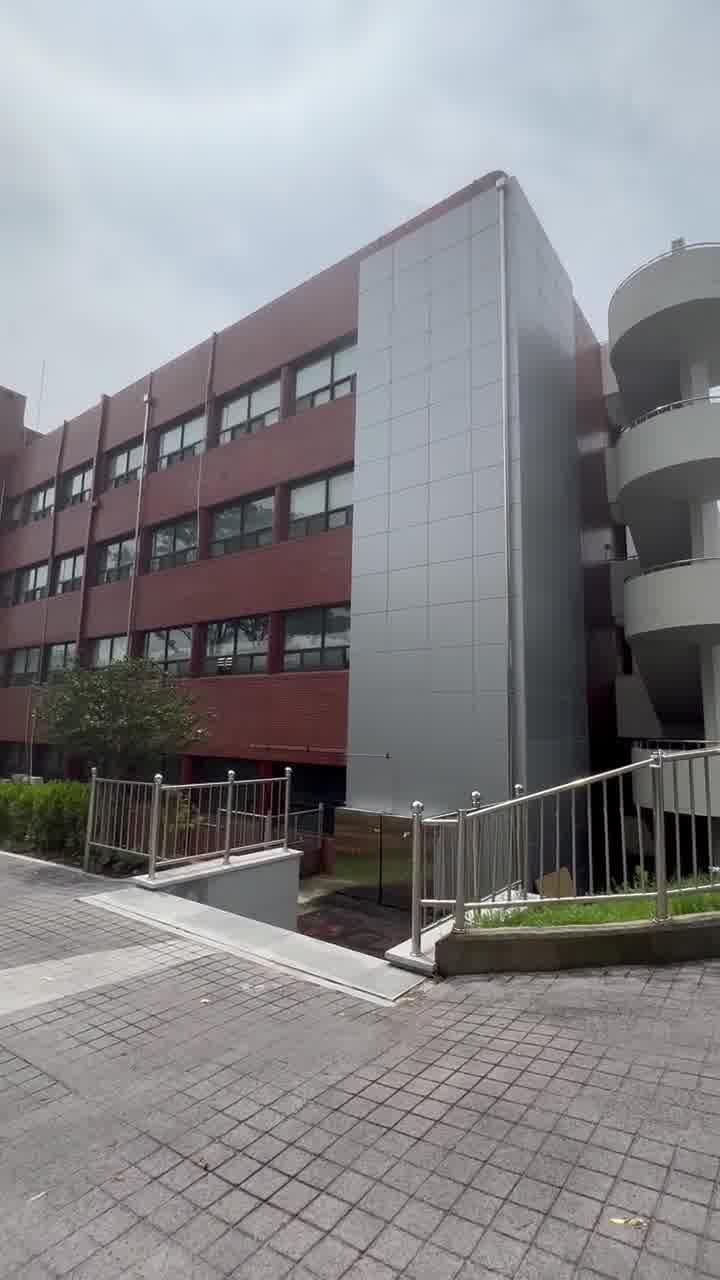building: (38, 232, 600, 712)
